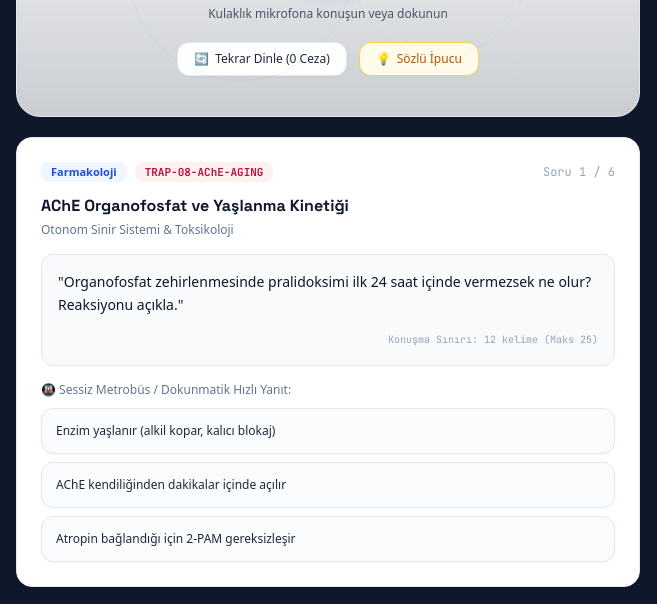
Test case: MetrobusAudioView Commuter Interaction & Accessibility › evaluates quick touch response and displays verdict feedback with next CTA
The image size is (657, 604).
(page scrolled)
// Click the correct quick response option
Click the button "Enzim yaşlanır (alkil kopar, kalıcı blokaj)": (166, 430) [41, 408, 615, 454]
(page scrolled)
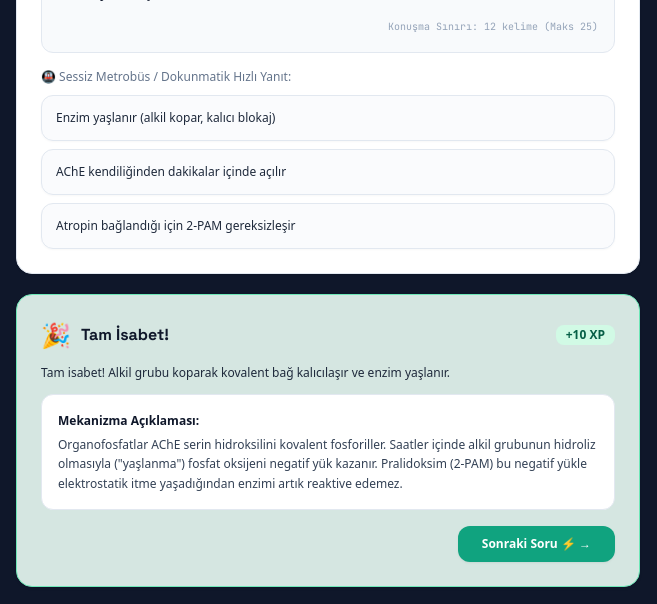
Expected: the element with test id "metrobus-verdict-box" is shown, [16, 294, 640, 587]
Expected: the heading "Tam İsabet!" is shown, [81, 322, 169, 346]
Expected: the text "+10 XP" is shown, [556, 324, 615, 344]
// Click next prompt
Click the button with test id "metrobus-next-btn": (536, 544) [458, 526, 615, 562]
(page scrolled)
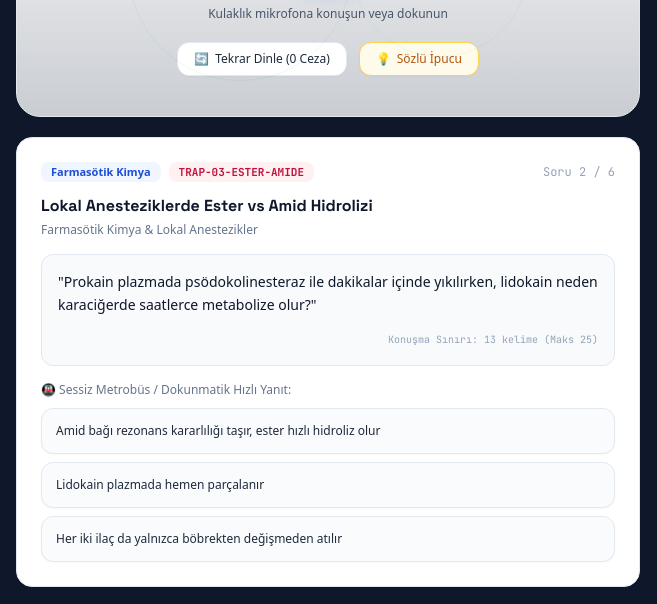
Expected: the heading "Lokal Anesteziklerde Ester vs Amid Hidrolizi" is shown, [41, 195, 373, 216]
